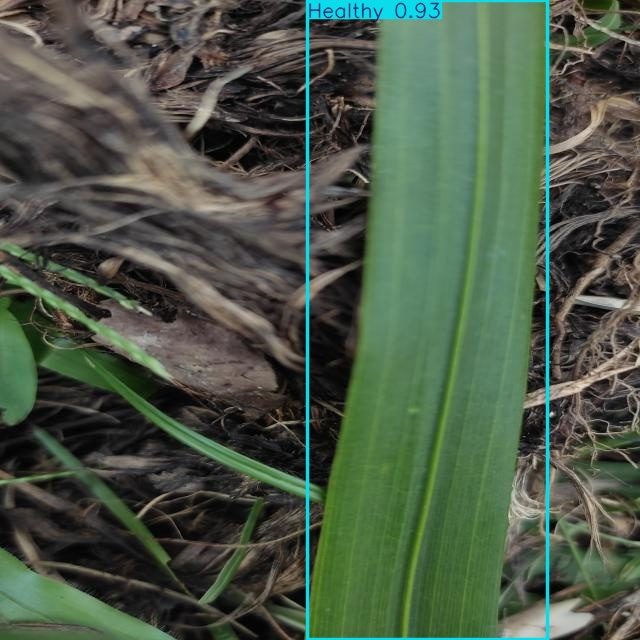Healthy: (307, 0, 547, 640)
